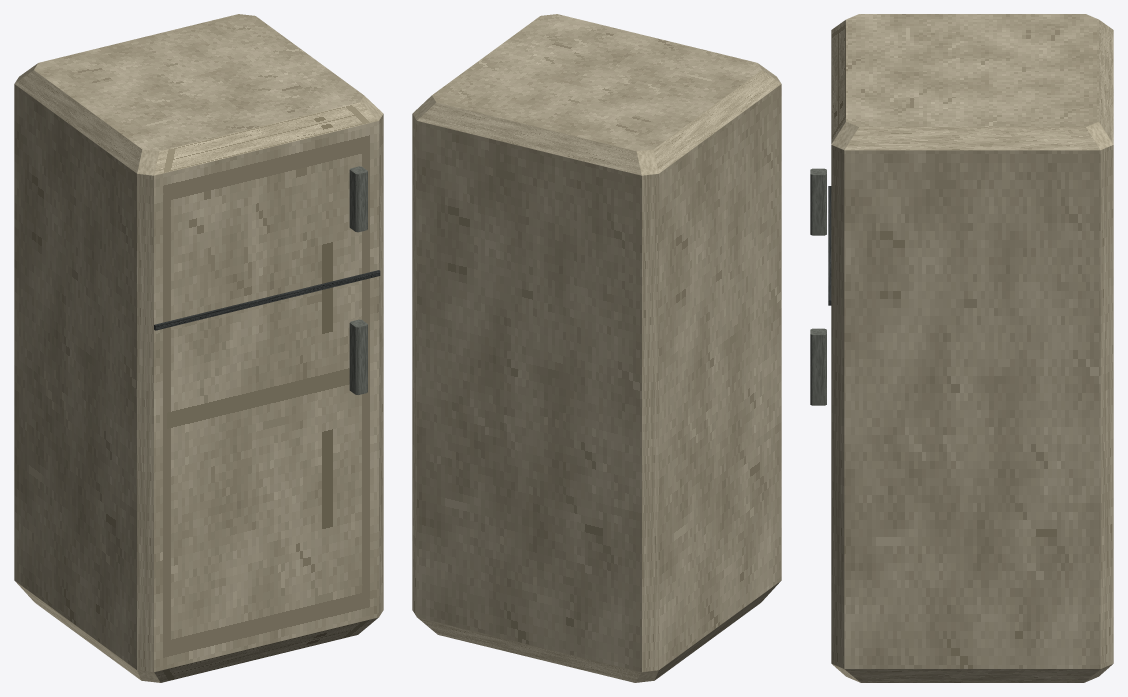
File: fridge.glb
The picture shows the model from 3 angles, left to right: view 1: azimuth 30°, elevation 25°; view 2: azimuth 150°, elevation 25°; view 3: azimuth 270°, elevation 25°; orthographic projection. The views are drawn at different scales.
Parts seen in each view (by area): view 1: Body; view 2: Body; view 3: Body.
Boxes of the visible parts, bbox=[...] form: Body: bbox=[14, 14, 383, 682]; Body: bbox=[412, 14, 781, 682]; Body: bbox=[810, 14, 1113, 682].
Bounding box in the file's own units: 0.8 × 1.65 × 0.8165.
Materials: 1 (1 with a texture image).
